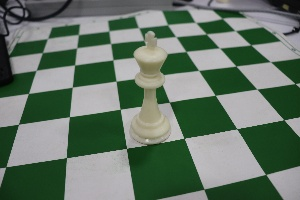white_king: (119, 25, 178, 156)
